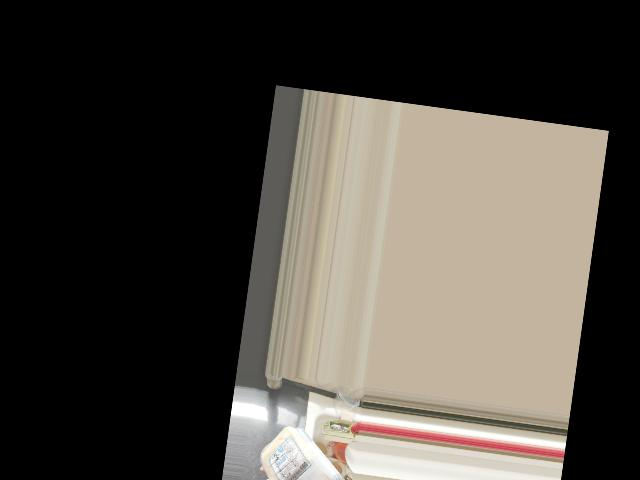cheese: (258, 422, 339, 480)
